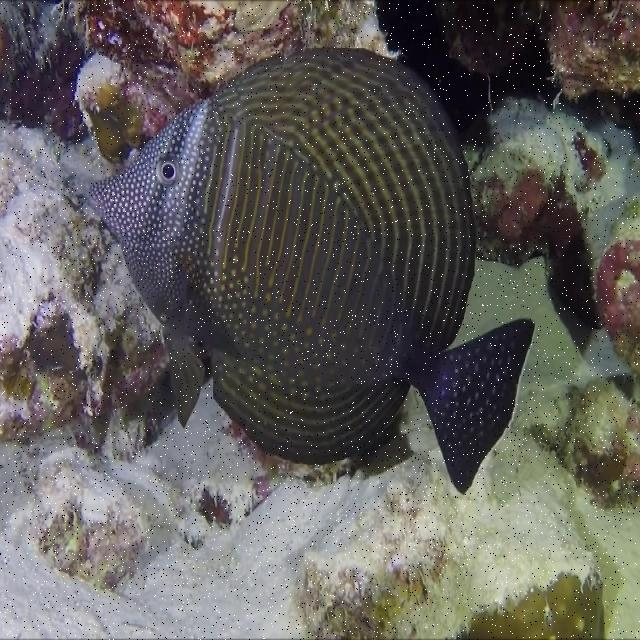fish: (88, 47, 537, 493)
